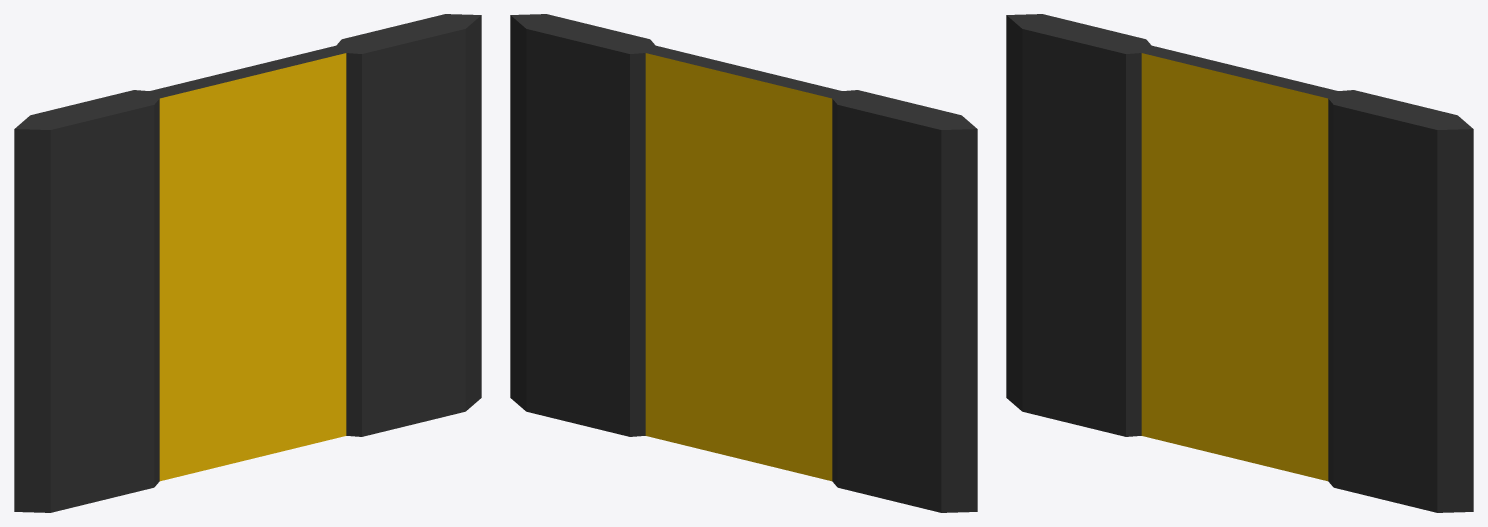
File: Demo_Wall.fbx
The picture shows the model from 3 angles, left to right: view 1: azimuth 30°, elevation 25°; view 2: azimuth 150°, elevation 25°; view 3: azimuth 330°, elevation 25°; orthographic projection.
Parts seen in each view (by area): view 1: mergedBlocks; view 2: mergedBlocks; view 3: mergedBlocks.
Boxes of the visible parts, <box> form: mergedBlocks: <box>14,14,481,512</box>; mergedBlocks: <box>510,14,977,512</box>; mergedBlocks: <box>1006,14,1473,512</box>.
Bounding box in the file's own units: 29.36 × 23 × 2.2.
